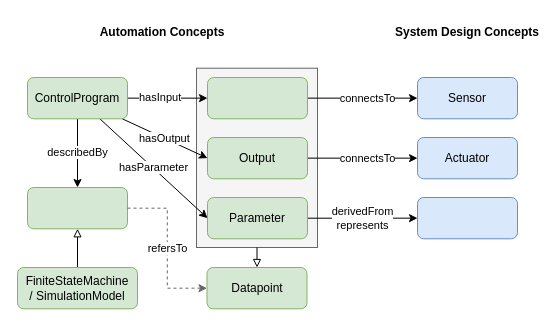
The diagram is 560 pixels wide and 326 high, and some of its shapes have lost their labels. The shapes that lost their labels are listed below. From the top down, each one's centre as x and y in pixels, then its label:
point (257, 97): Input
point (77, 207): ProgramModel
point (467, 217): DesignParameter
